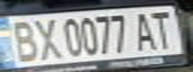0: (78, 14, 100, 56), (60, 15, 81, 57)
7: (109, 11, 133, 53), (93, 11, 115, 54)
A: (130, 9, 160, 52)
B: (3, 17, 42, 63)
T: (145, 8, 181, 51)
X: (30, 15, 63, 61)
